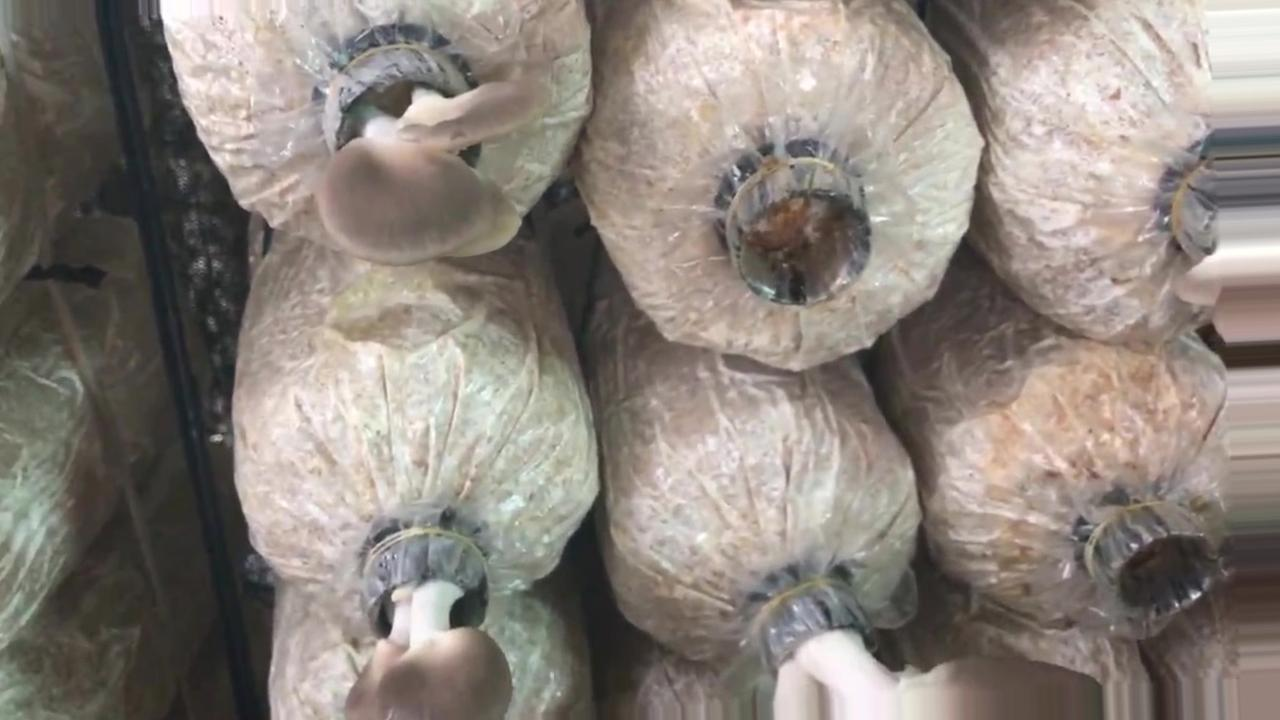nam: (314, 27, 556, 277), (755, 573, 1104, 720), (345, 521, 516, 720), (1177, 125, 1280, 337)
